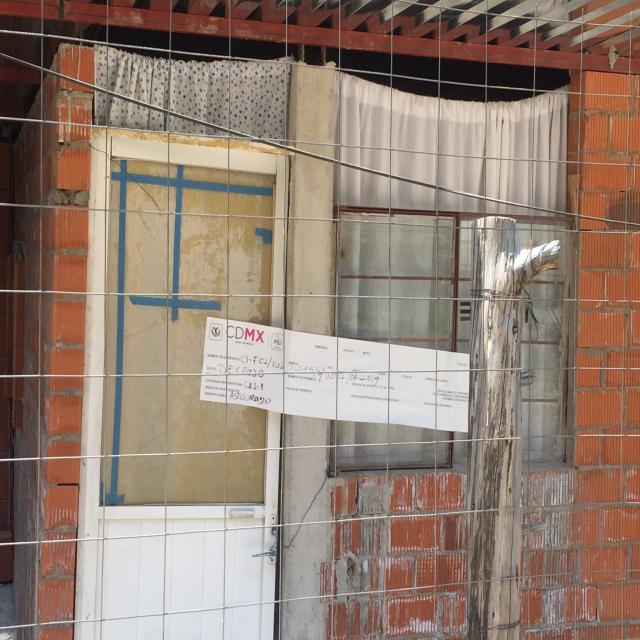stamps: (200, 317, 468, 433)
